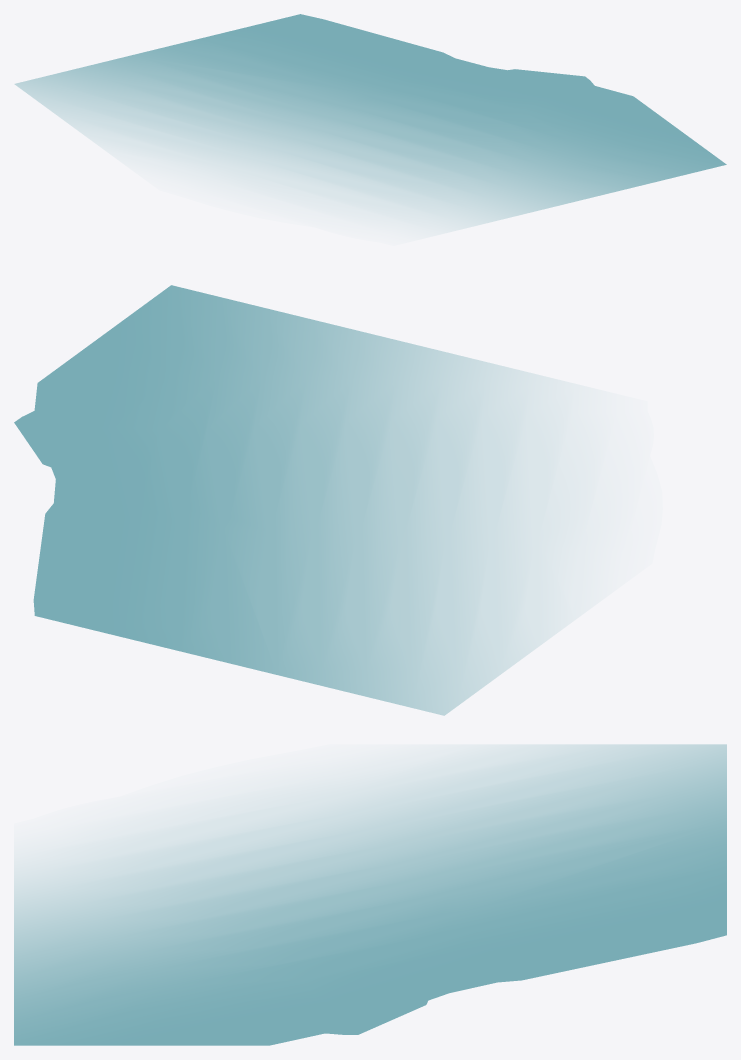
3 views of the same model, one above another, from view 1: azimuth 30°, elevation 25°; view 2: azimuth 150°, elevation 25°; view 3: azimuth 270°, elevation 25° (orthographic). The views are drawn at different scales.
Parts seen in each view (by area): view 1: city; view 2: city; view 3: city.
Part boxes in pixels (bbox=[...]): city: bbox=[15, 14, 726, 230]; city: bbox=[14, 285, 574, 715]; city: bbox=[14, 744, 726, 1045].
Bounding box in the file's own units: 500 × 0 × 500.
